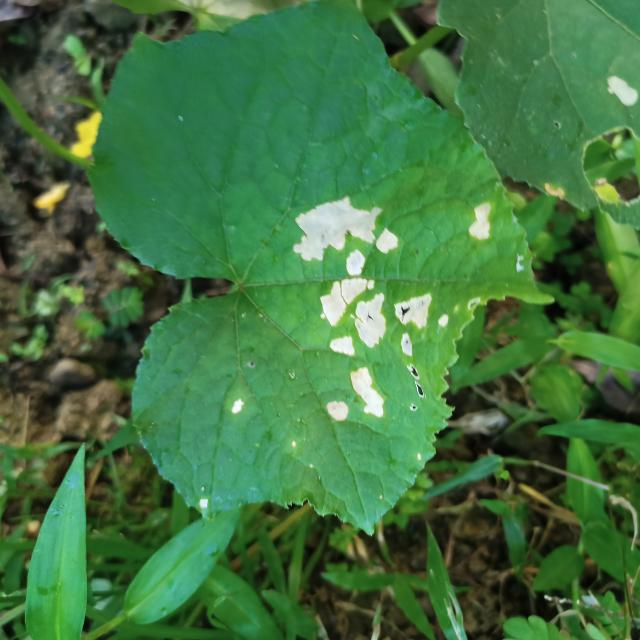disease_cucumber: (288, 192, 455, 437), (463, 193, 504, 256), (600, 72, 640, 118), (222, 397, 257, 427)
